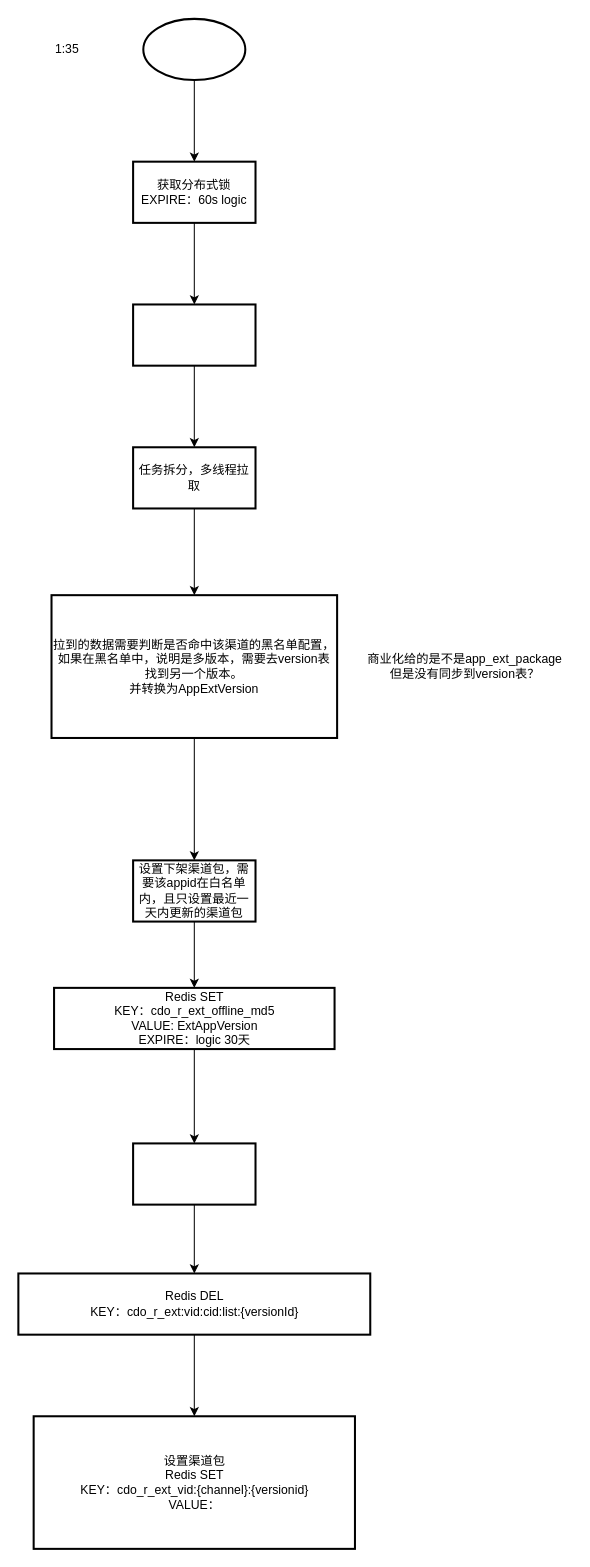
This 590x1567 diagram has some shape labels left out. Each missing label, with the centre of its shape:
"存入versionIds集合，并且删除涉及到的的版本渠道列表" goes at pixel 194 1173.
"开始" goes at pixel 194 49.
"查询DB数据量 app_ext_version" goes at pixel 194 334.
